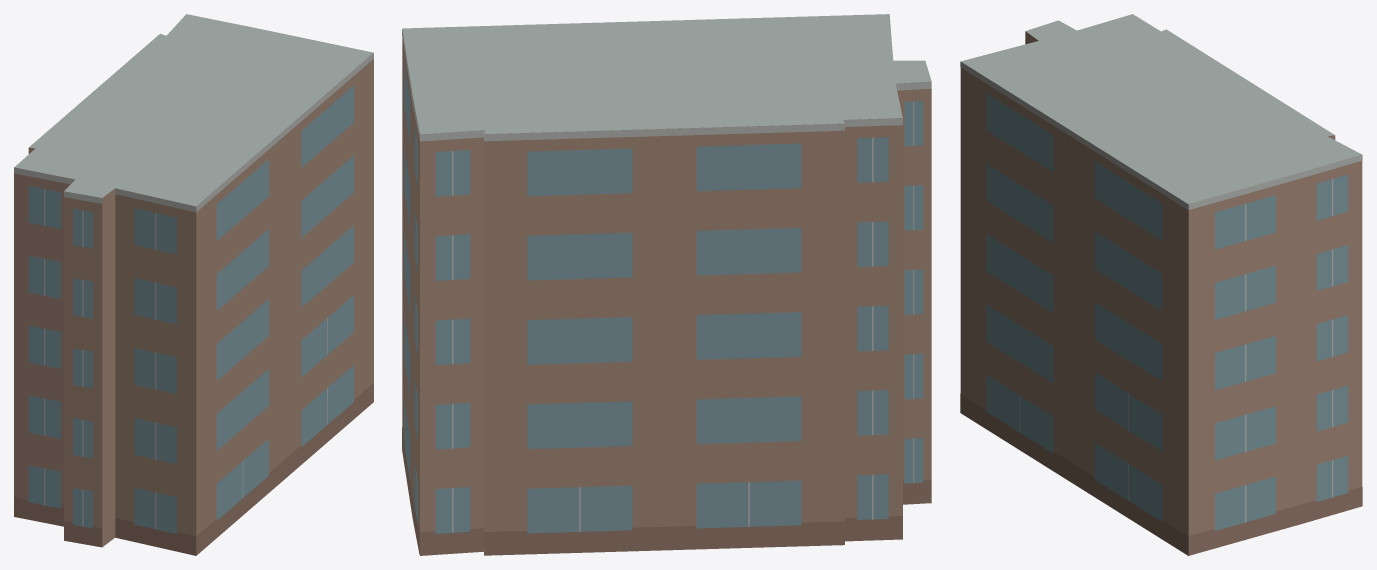
Rendered from survey-upis-32883465.glb.
3 views of the same model, side by side, from view 1: azimuth 30°, elevation 25°; view 2: azimuth 150°, elevation 25°; view 3: azimuth 270°, elevation 25° (orthographic). The views are drawn at different scales.
Visible parts, largest first — view 1: survey-upis-32883465.tmp; view 2: survey-upis-32883465.tmp; view 3: survey-upis-32883465.tmp.
Boxes of the visible parts, left/top/right/bottom form: survey-upis-32883465.tmp: left=14, top=14, right=373, bottom=555; survey-upis-32883465.tmp: left=402, top=14, right=931, bottom=555; survey-upis-32883465.tmp: left=960, top=14, right=1362, bottom=555.
Size of the model in its own units: 16.72 by 14.4 by 14.92.
